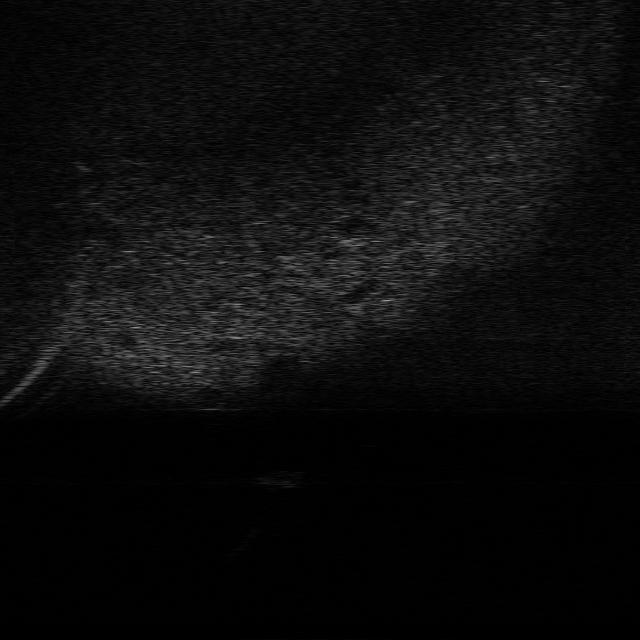cube: (256, 468, 308, 488)
